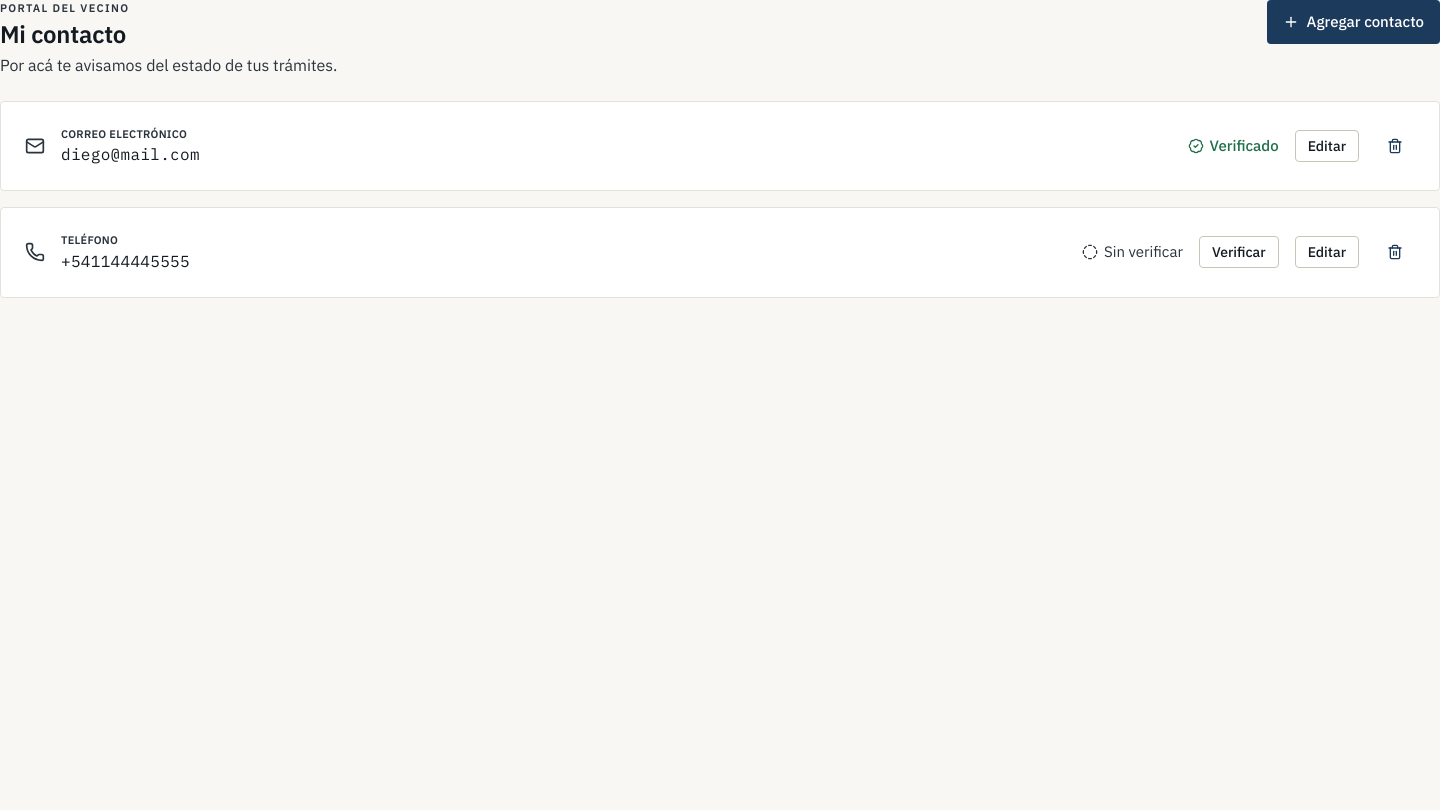
Test: alta › valida el teléfono con la misma regla que el backend
This screenshot has width=1440, height=810.
Click the button "Agregar contacto".
click(1353, 22)  # box [1267,0,1439,44]
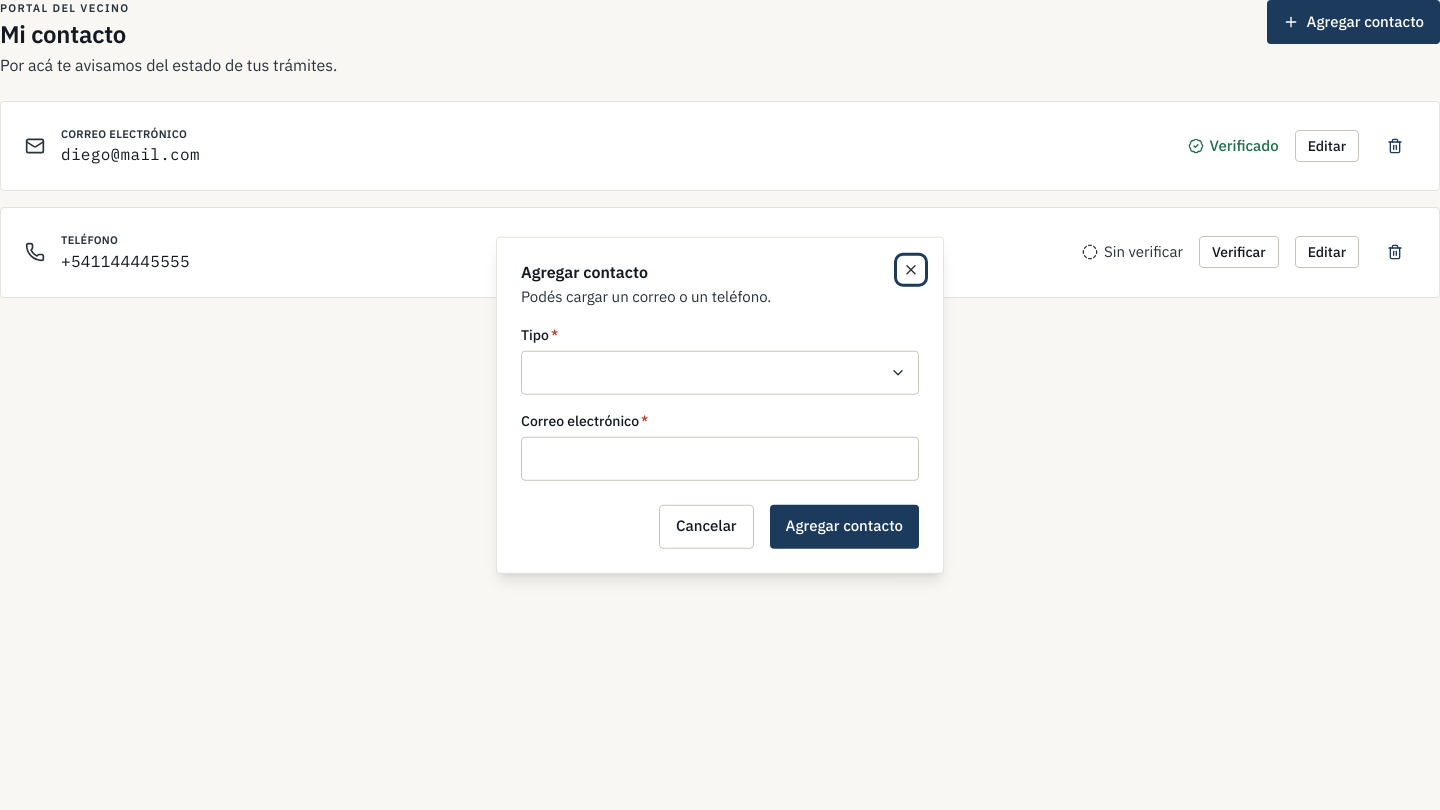
Press the mouse on the dropdown named "Tipo" at (898, 372), box [521,350,919,394]
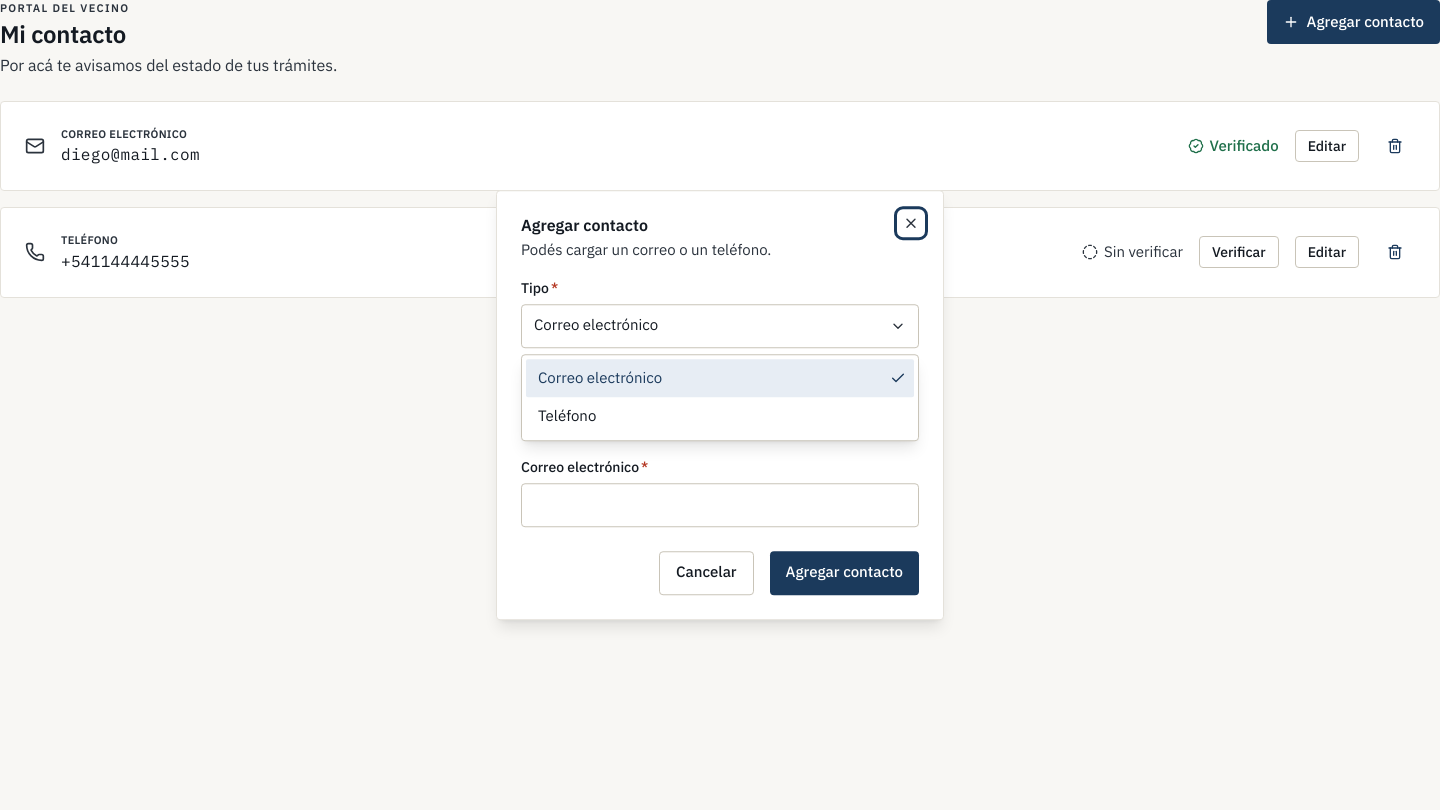
Click the option "Teléfono".
click(567, 416)  # box [538,406,596,425]
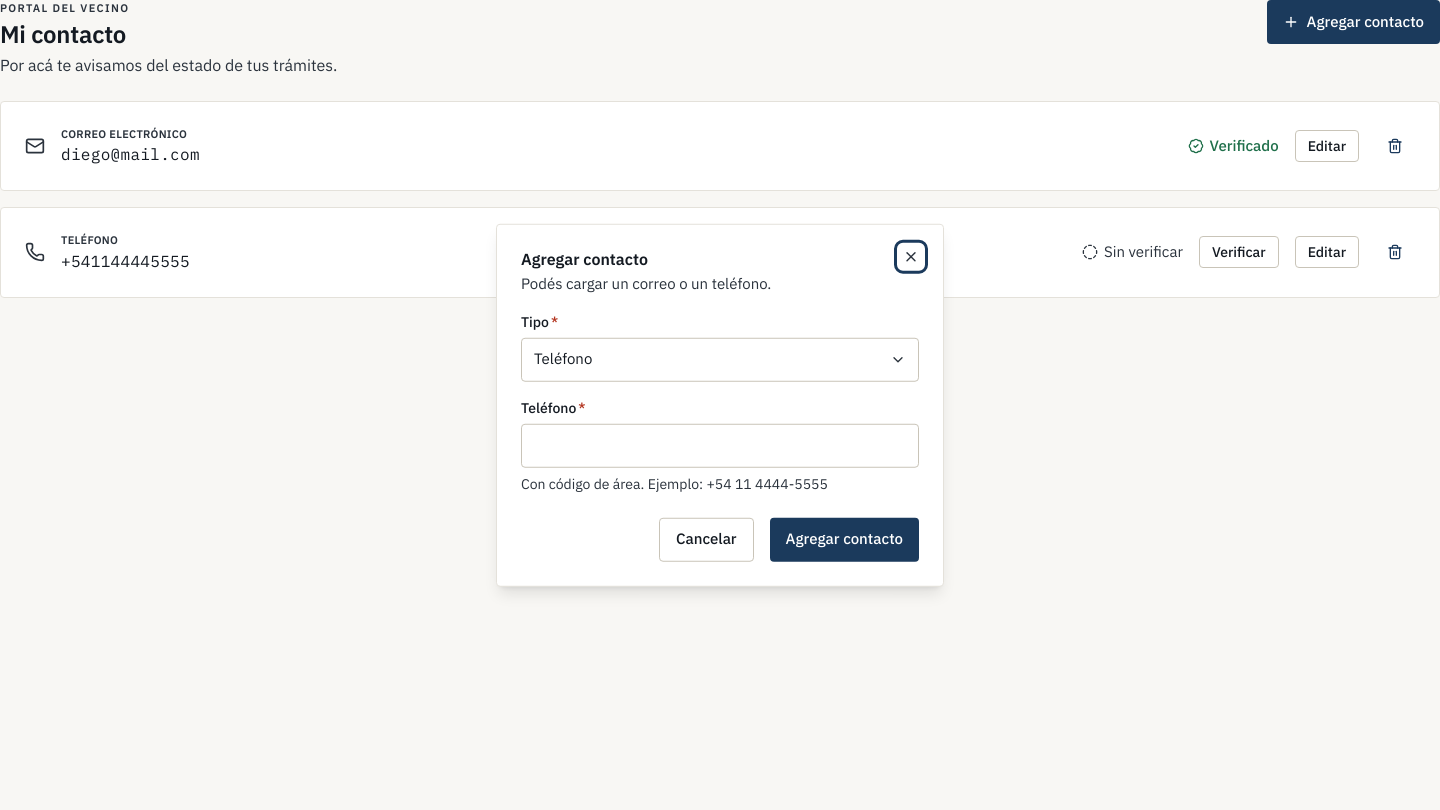
Type "123" into the field labelled "Teléfono".
click(720, 445); type("123")  # box [521,423,919,467]
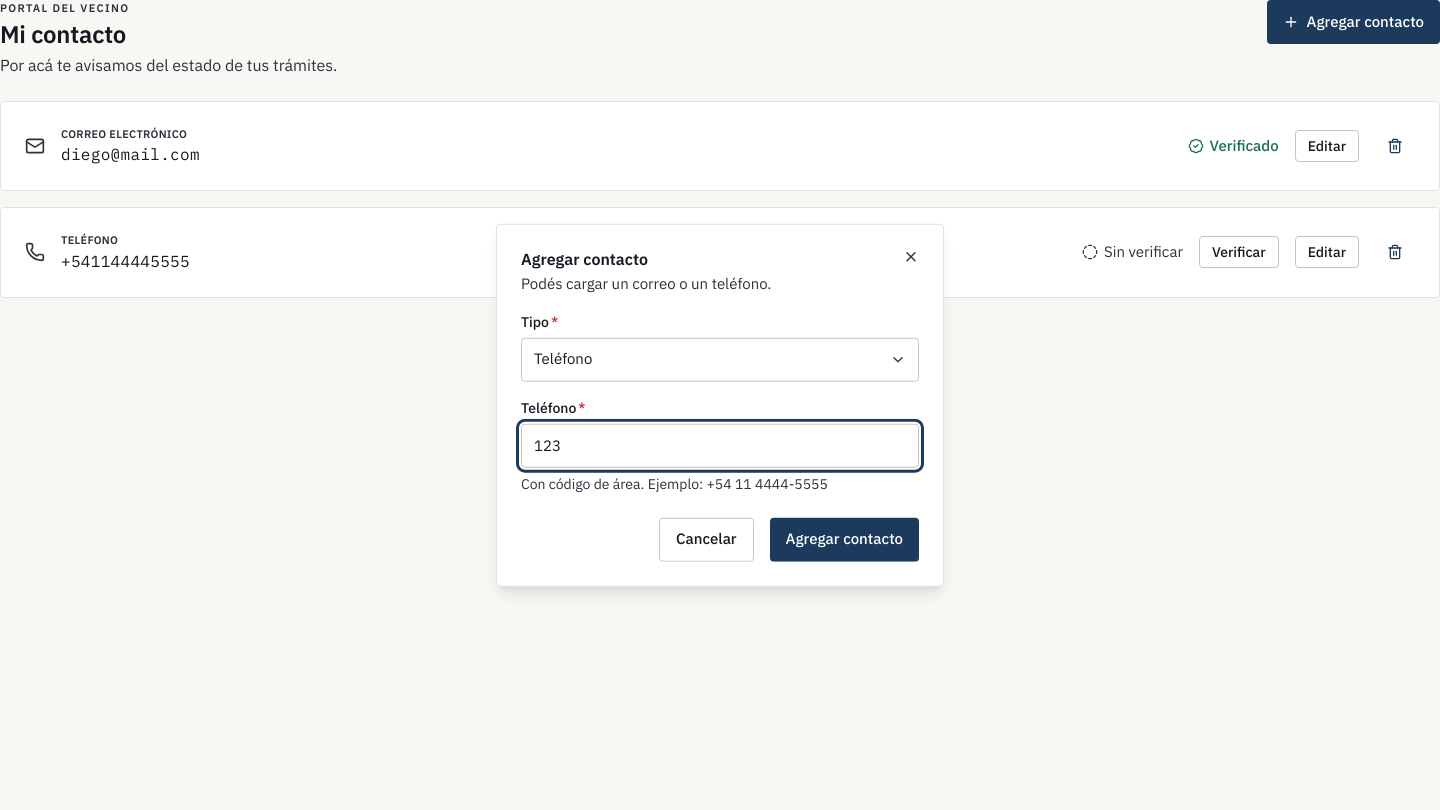
Click the button "Agregar contacto".
click(844, 539)  # box [770,517,919,561]
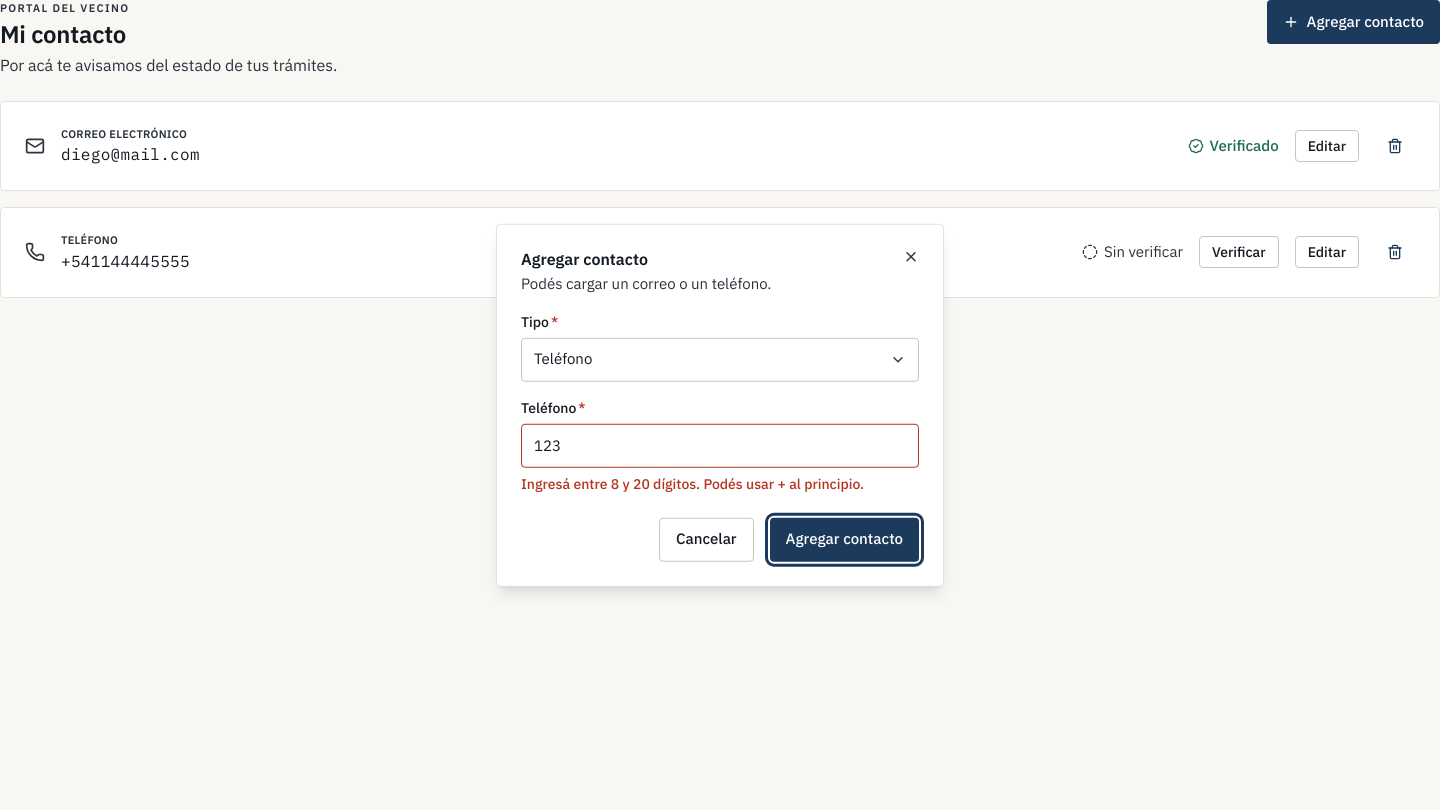
expect the text "Ingresá entre 8 y 20 dígitos. Podés usar + al principio." is shown: met, box [521,473,919,493]
